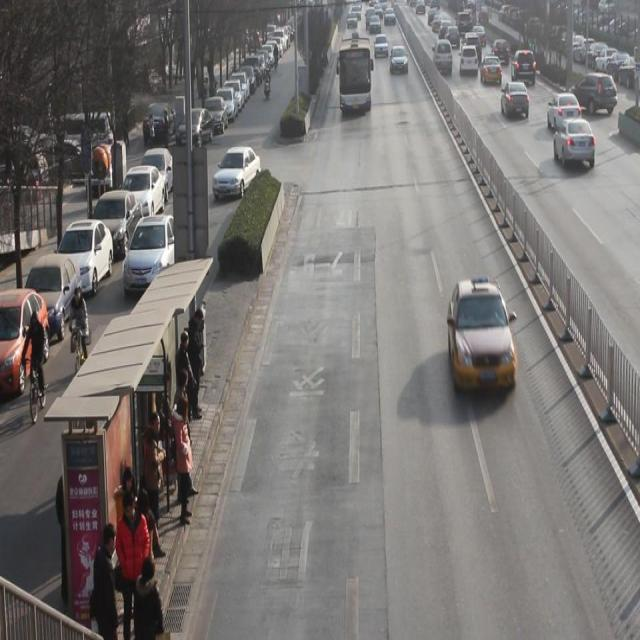car: (450, 280, 517, 394), (120, 214, 182, 294), (212, 145, 261, 199), (570, 73, 619, 118), (554, 119, 595, 168), (547, 93, 582, 132), (501, 82, 530, 119), (513, 50, 536, 84), (481, 53, 502, 84), (464, 35, 483, 63), (460, 46, 479, 74), (492, 39, 510, 66), (391, 47, 408, 75), (374, 35, 389, 61), (458, 12, 472, 35), (473, 24, 486, 47), (369, 15, 382, 36), (464, 7, 478, 25), (383, 8, 397, 26), (438, 21, 452, 38), (447, 27, 460, 45)
truck: (432, 41, 452, 74)
van: (340, 31, 370, 116)
